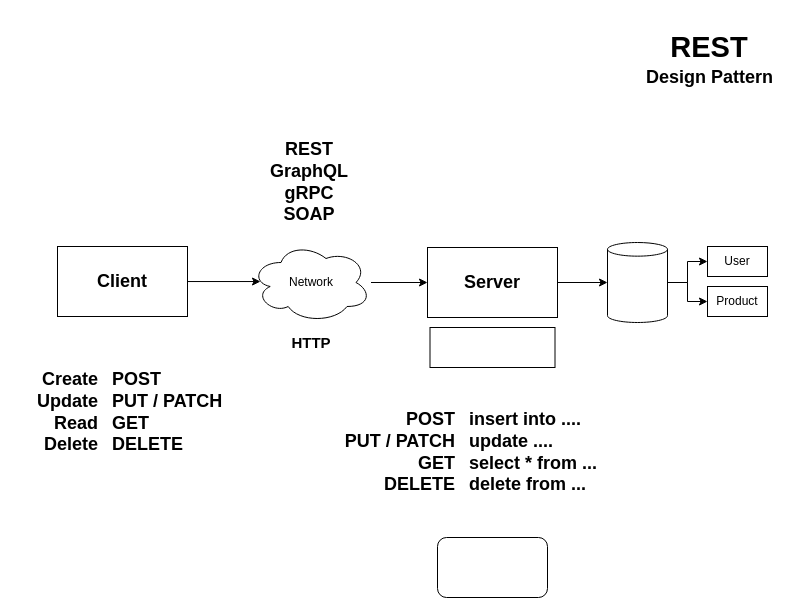
This 802x615 diagram has some shape labels left out. Here are the shapes that lost their labels. From the top down, the centre of each, then its label:
At [637,282]: "DB".
At [492,347]: "POST /user".
At [492,567]: "Response JSON".
